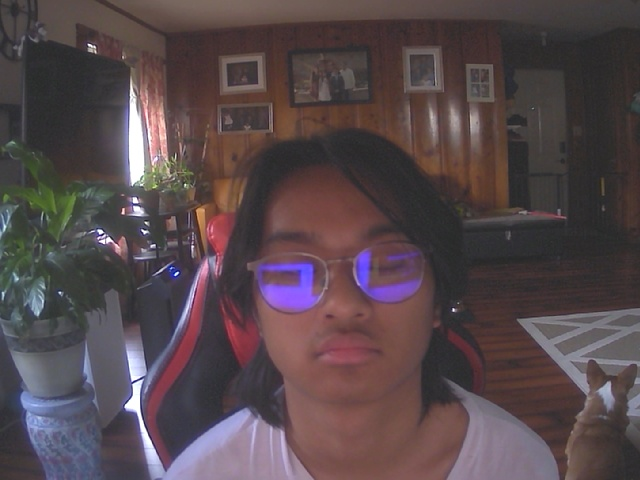neutral: (236, 134, 455, 409)
